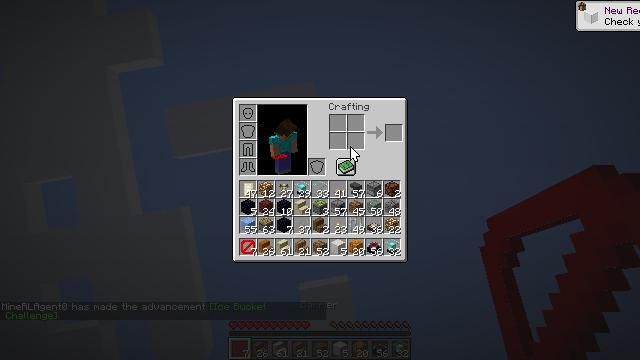cursor: (146, 350, 162, 360)
